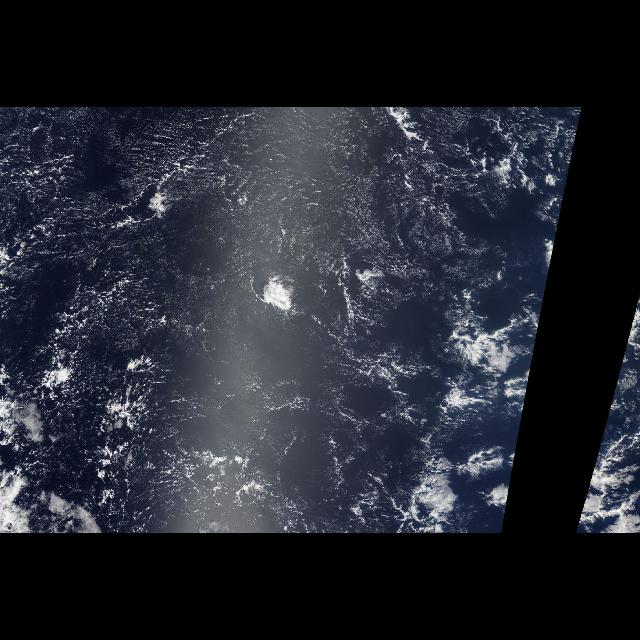Fish: (422, 285, 508, 533)
Flower: (226, 257, 326, 329)
Gravel: (57, 312, 411, 532)
Sugar: (5, 109, 467, 255)
